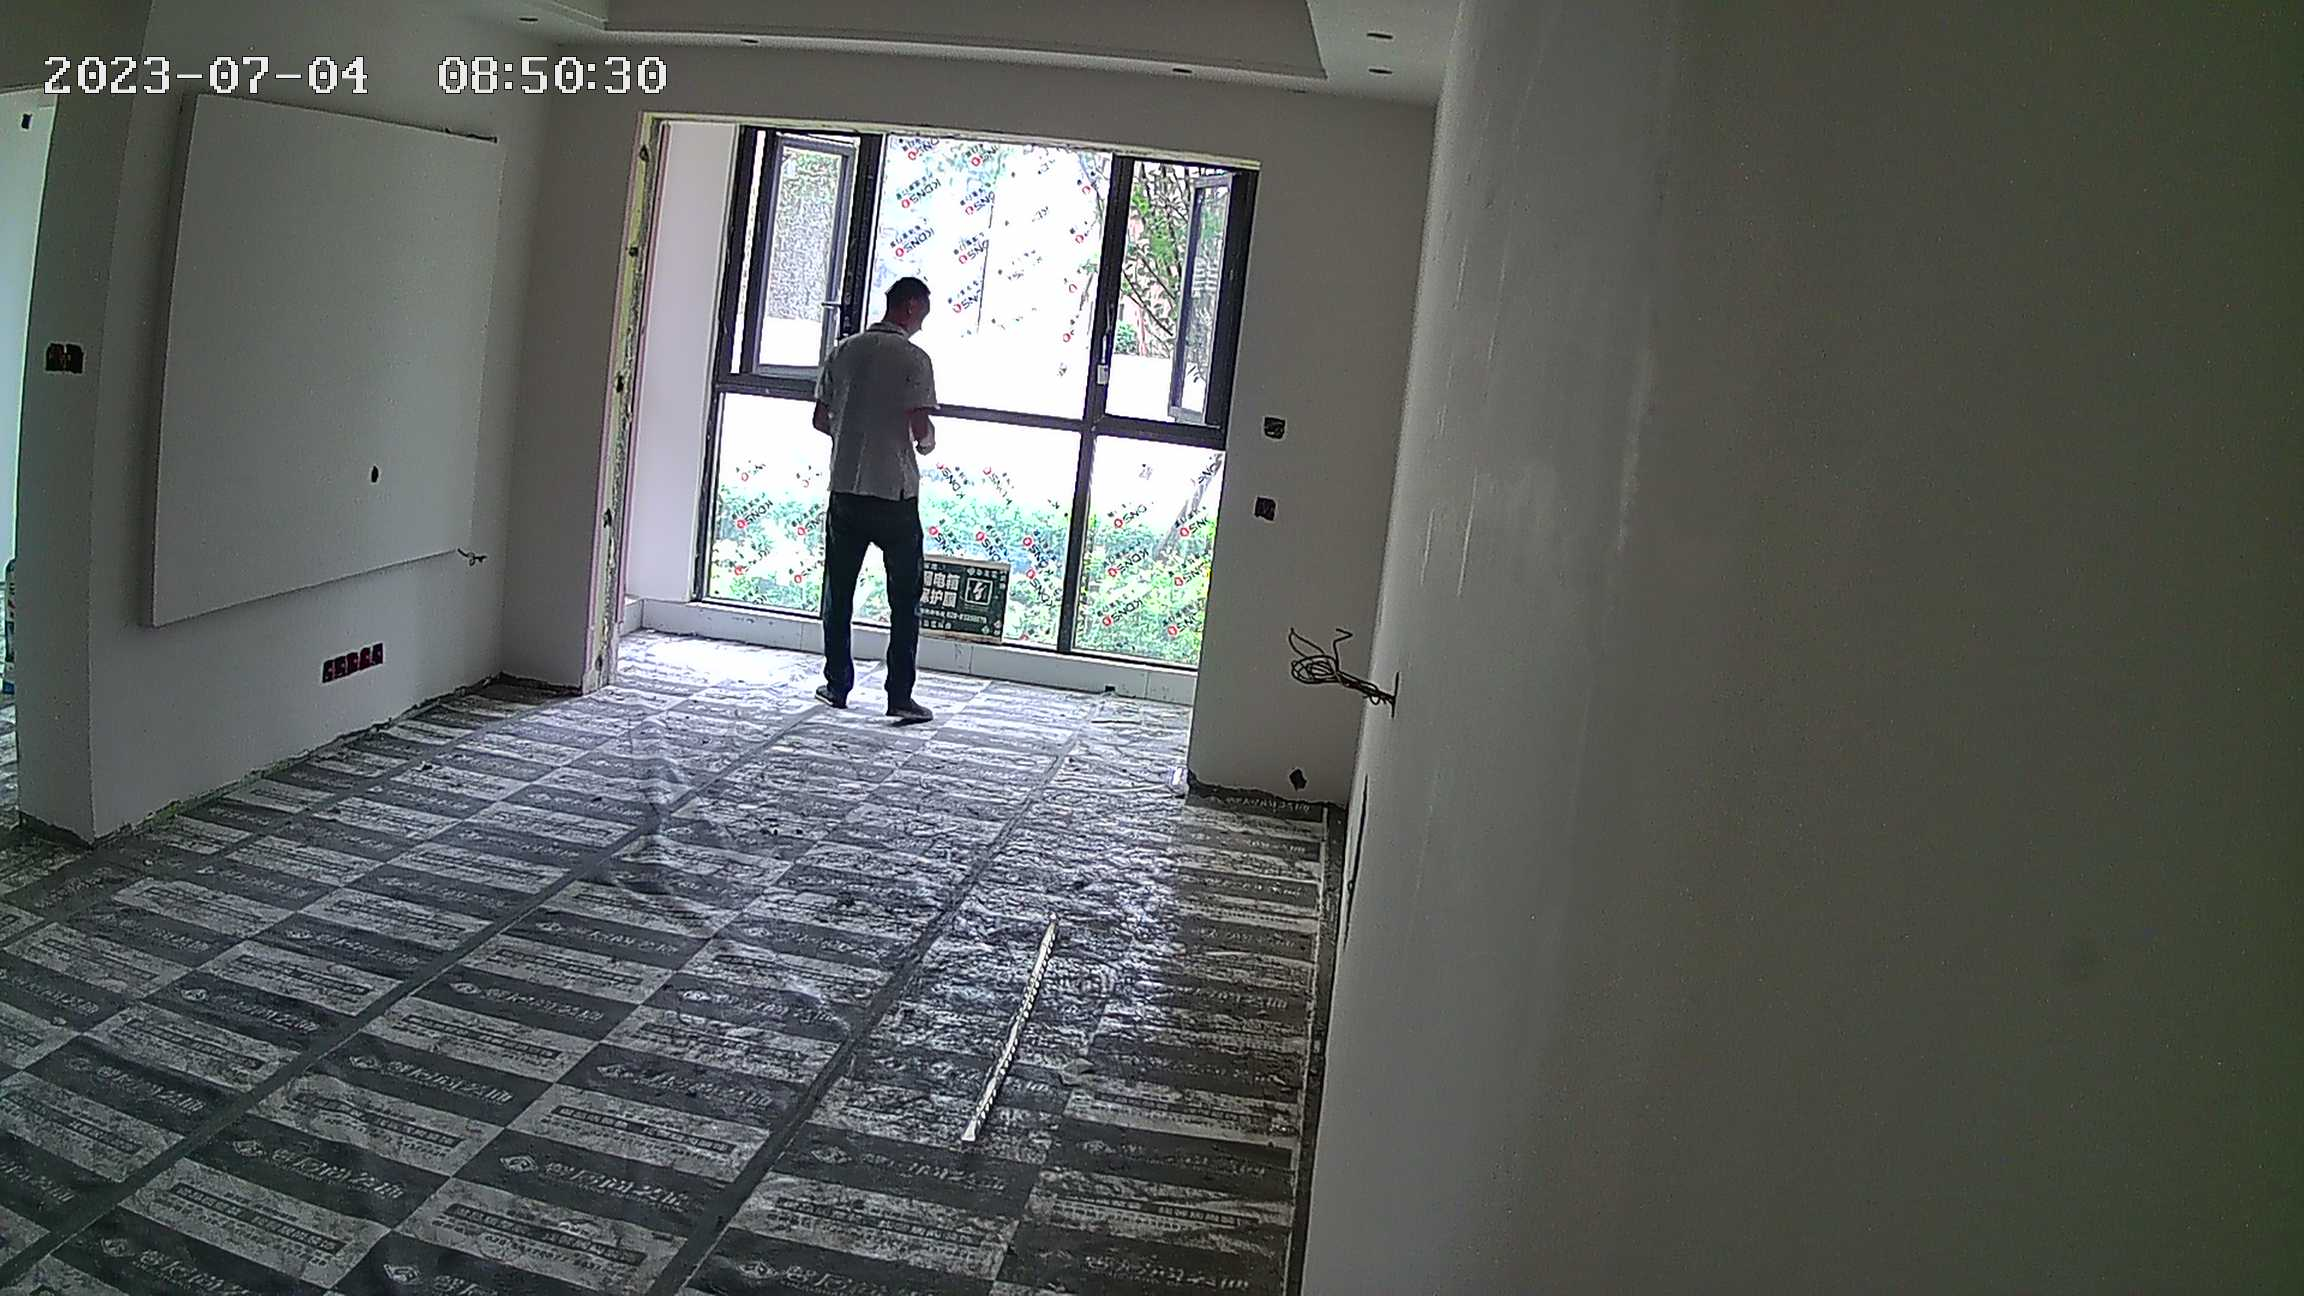people: (806, 275, 946, 734)
window: (724, 127, 1213, 666)
